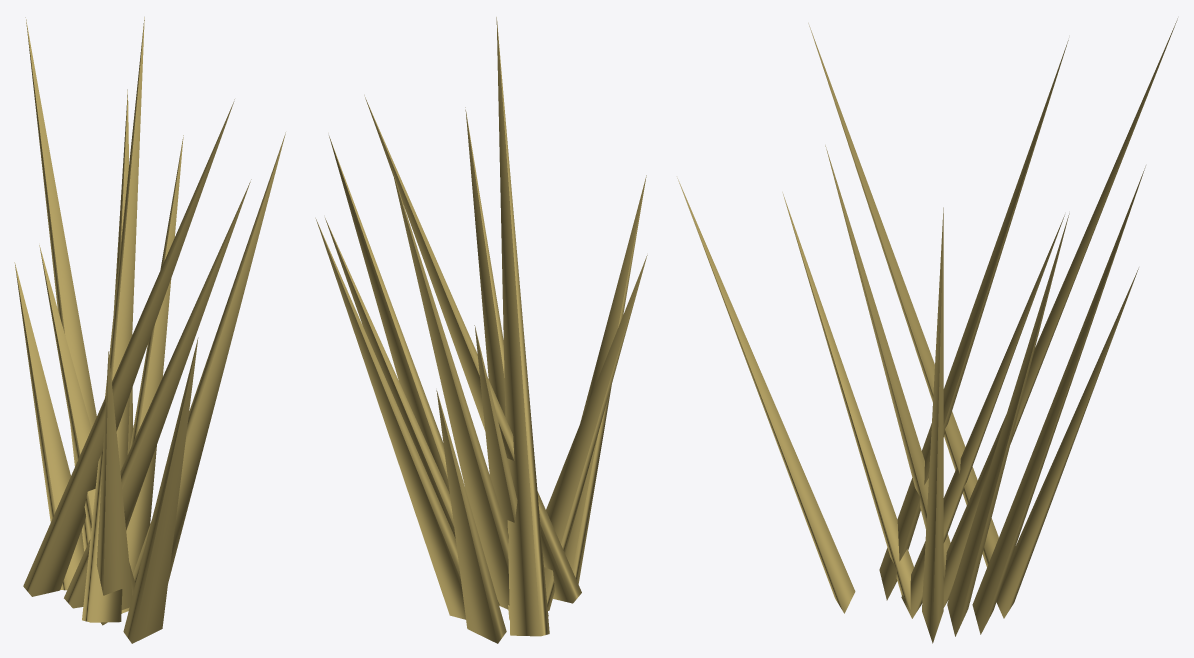
The model's file is grass-dry.glb.
The picture shows the model from 3 angles, left to right: view 1: azimuth 30°, elevation 25°; view 2: azimuth 150°, elevation 25°; view 3: azimuth 270°, elevation 25°; orthographic projection. The views are drawn at different scales.
Visible parts, largest first — view 1: grass; view 2: grass; view 3: grass.
Part boxes in pixels (box(x1,y1,x2,y2)): grass: box(14, 17, 285, 643); grass: box(315, 17, 647, 643); grass: box(677, 18, 1177, 643).
Bounding box in the file's own units: 0.4814 × 0.999 × 0.7188.
